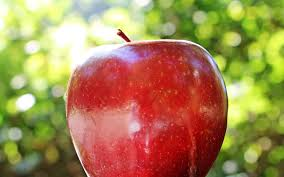apple: (65, 40, 229, 177)
